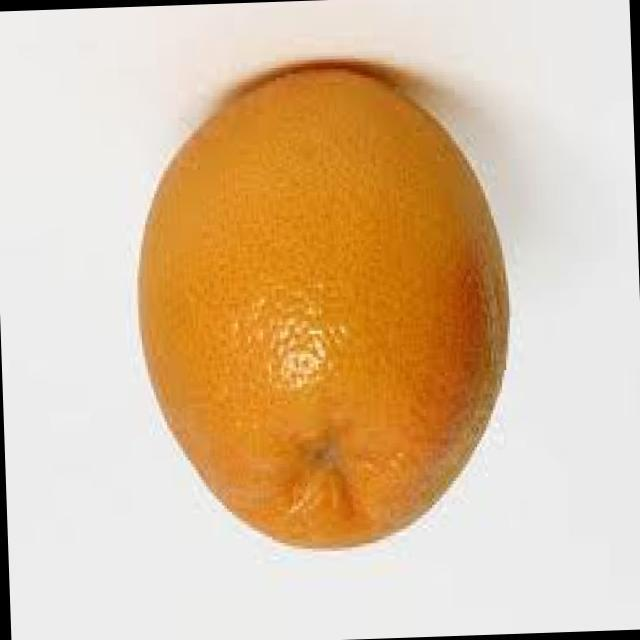Orange: (79, 29, 533, 596)
